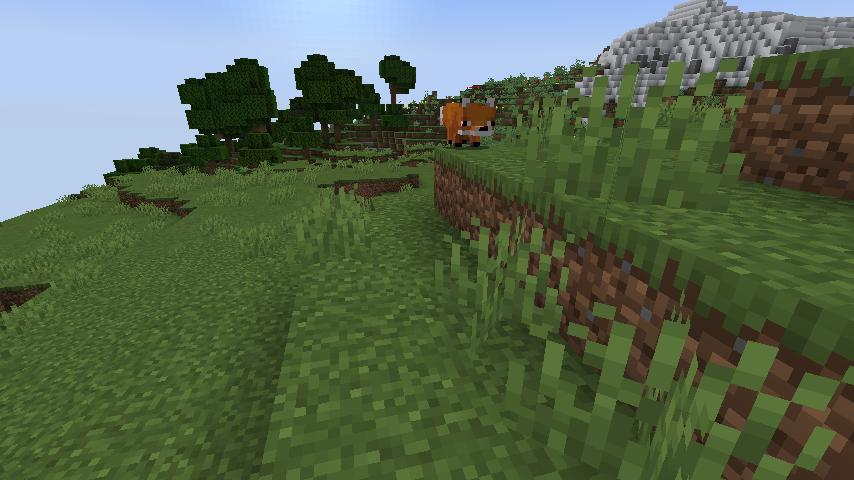fox: (436, 94, 500, 153)
